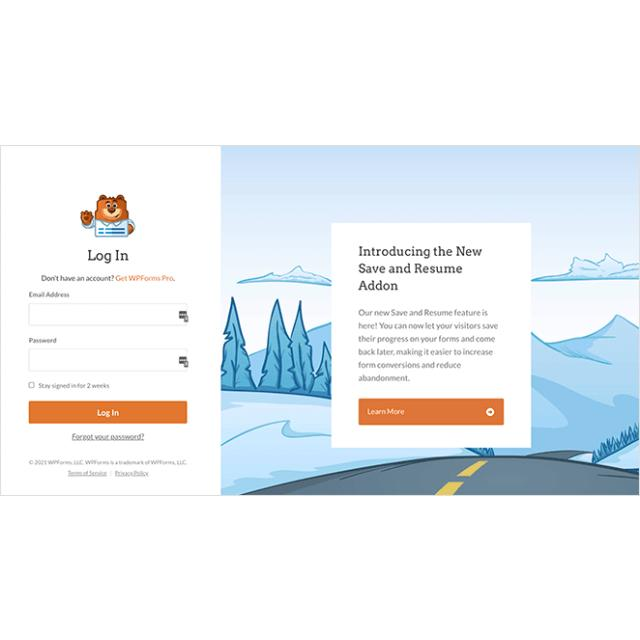QLabel: (356, 307, 499, 385), (356, 240, 489, 294), (29, 460, 188, 466), (85, 248, 128, 262), (40, 274, 114, 282), (72, 433, 144, 441), (38, 382, 110, 390), (366, 406, 404, 416), (116, 275, 174, 281), (29, 290, 70, 298), (67, 469, 107, 476), (96, 408, 120, 418), (114, 470, 148, 476), (28, 337, 58, 343)
VBtn: (358, 396, 506, 426), (29, 400, 188, 424)
VCard: (330, 220, 532, 450)
VCheckbox: (26, 381, 36, 389)
VDivider: (110, 470, 112, 476)
VIcon: (485, 408, 495, 417)
VImg: (80, 190, 136, 238)
VTextField: (28, 346, 188, 372), (28, 302, 188, 326)
